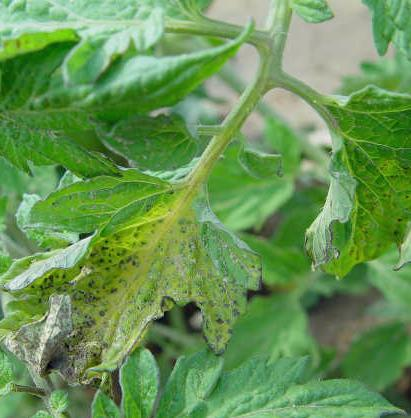Tomato leaf bacterial spot: (0, 152, 263, 396), (288, 56, 411, 314), (71, 331, 404, 418)
